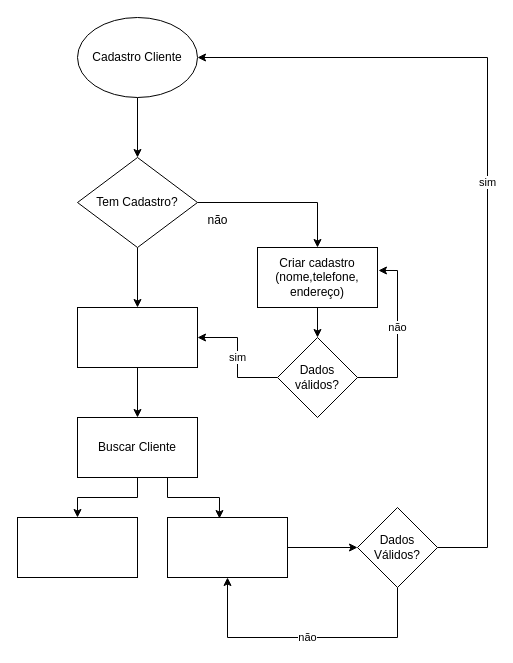
The diagram is 513 pixels wide and 663 high, and some of its shapes have lost their labels. Each missing label, with the box of its shape:
Apagar Cliente: (16, 516, 138, 578)
Atualizar Cliente: (166, 516, 288, 578)
Listar: (76, 306, 198, 368)
